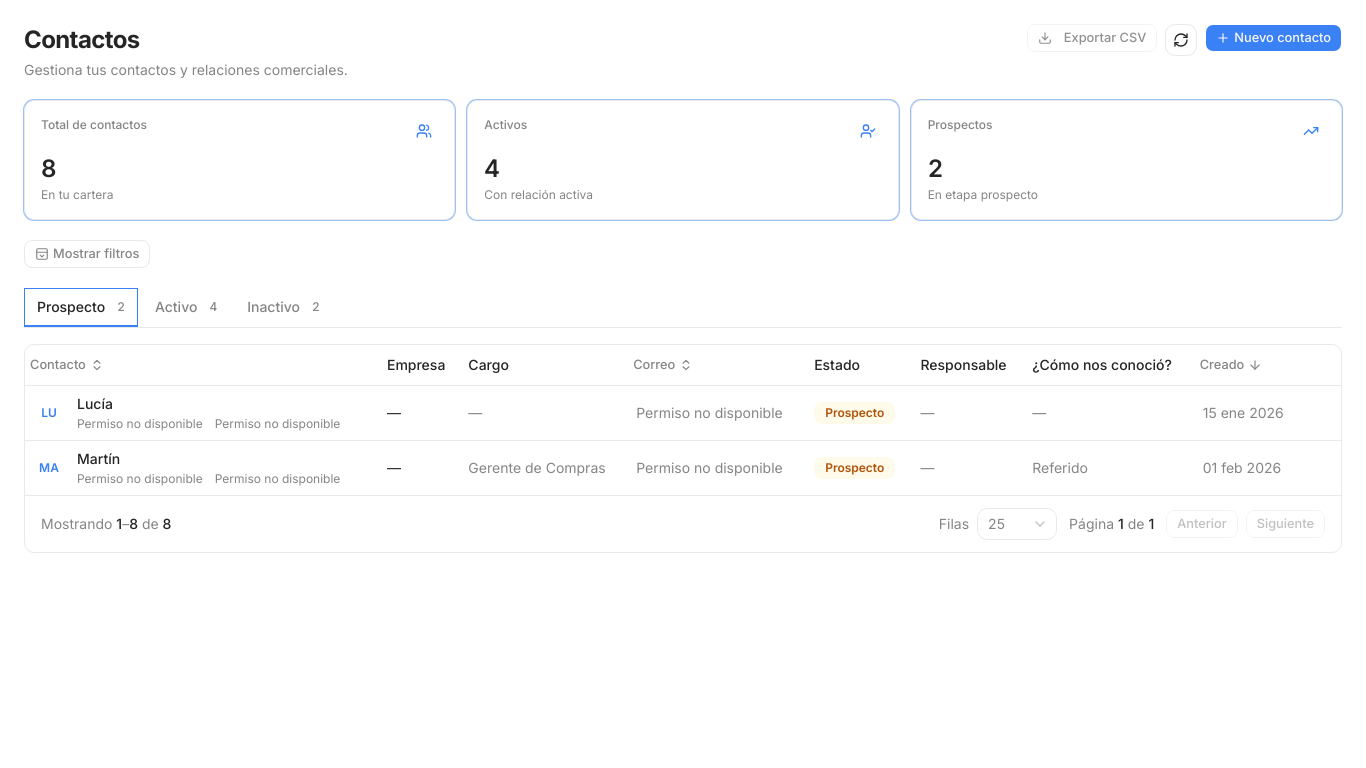
Test: ContactosPage › filtra contactos por empresa sin pedir datos al back nuevamente
Check: the link "Lucía" is shown, box [77,394,113,412]
Step 1. Click the button "Mostrar filtros" → click(87, 254), box [24,240,150,268]
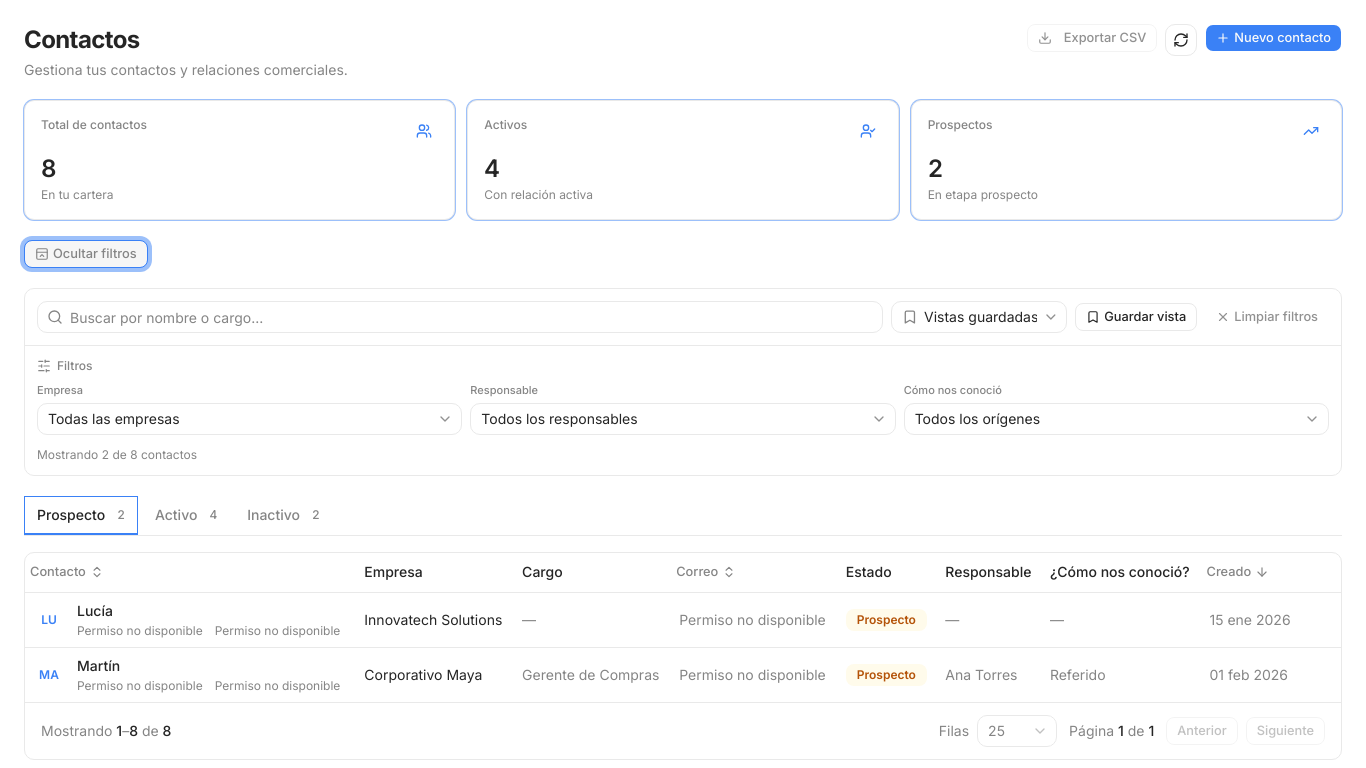
Step 2. Click the dropdown labelled "Todas las empresas" → click(114, 418), box [37,402,462,434]
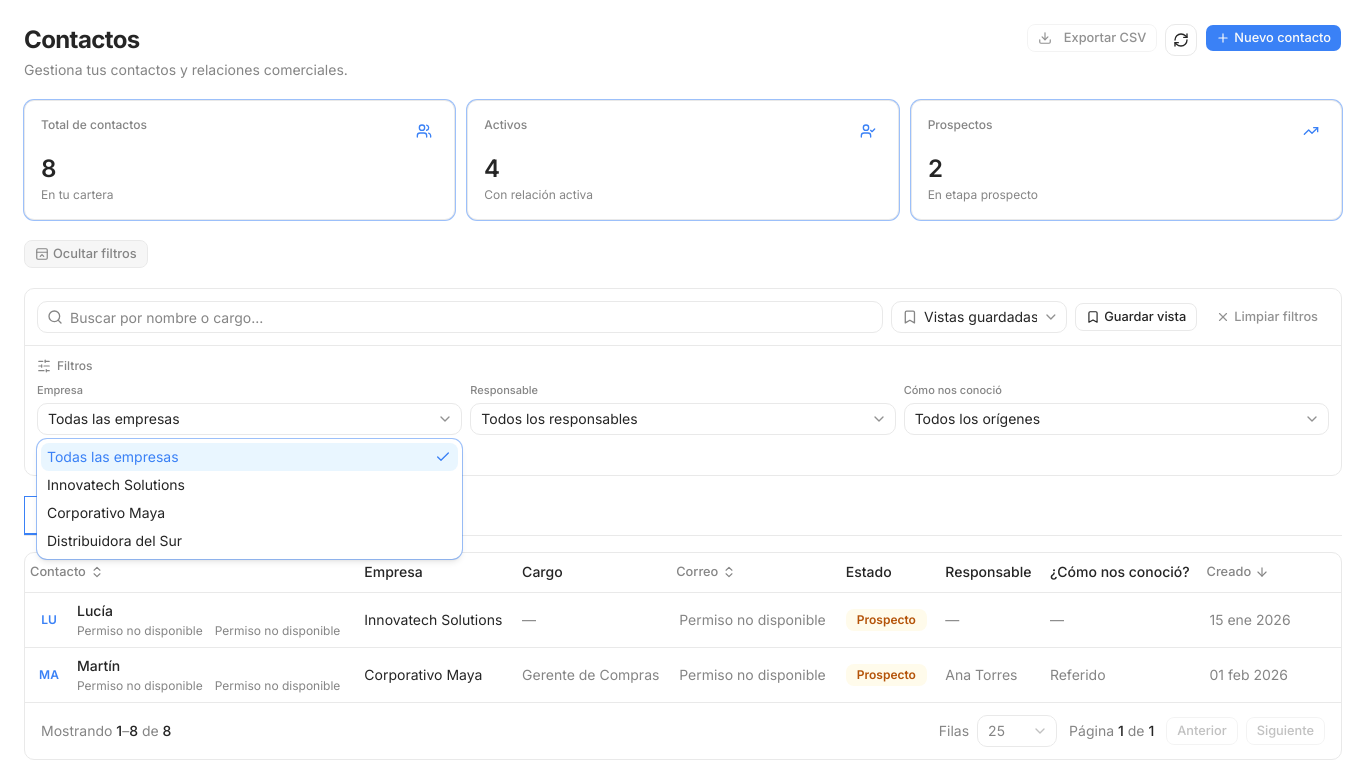
Step 3. Click the option "Corporativo Maya" → click(106, 512), box [47,504,165,521]
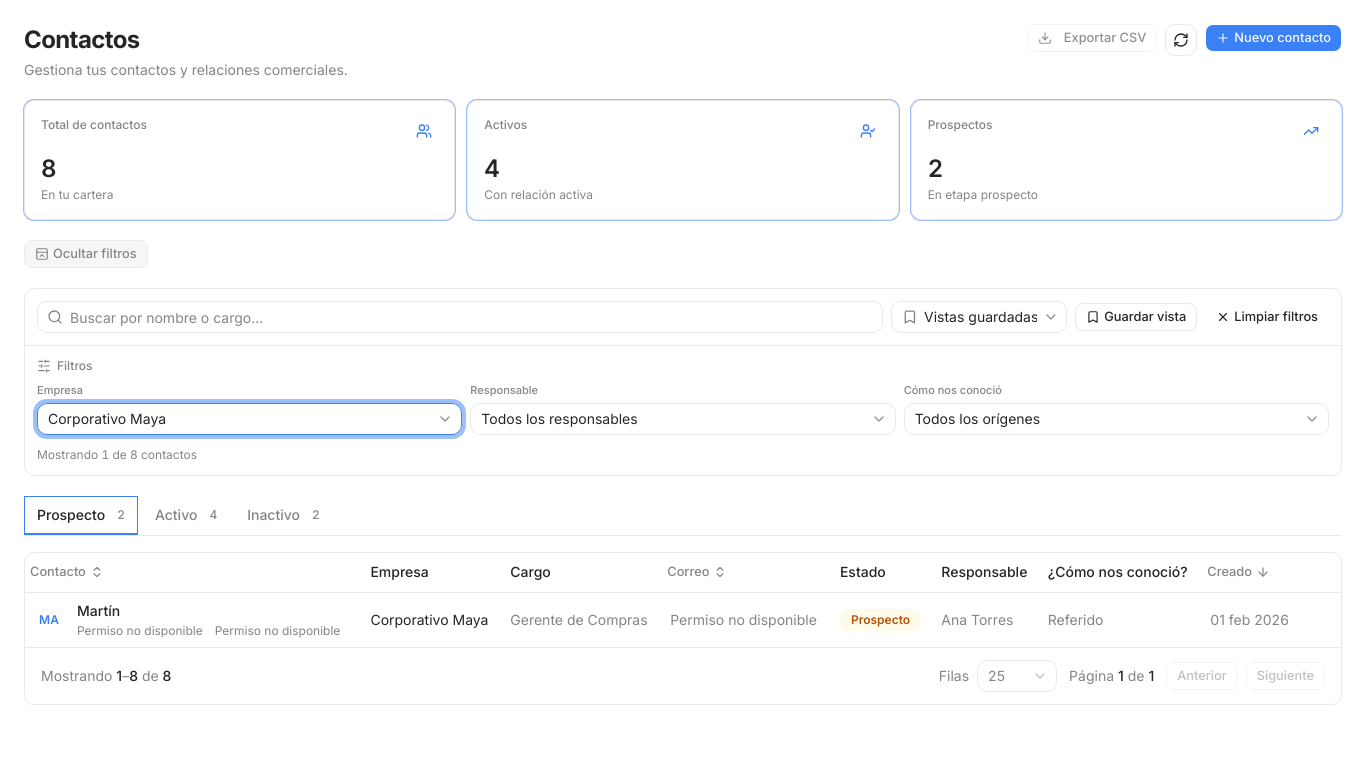
Check: the link "Martín" is shown, box [77,602,120,619]
Check: the link "Lucía" is gone
Check: the text "Mostrando 1 de 8 contactos" is shown, box [37,446,197,462]
